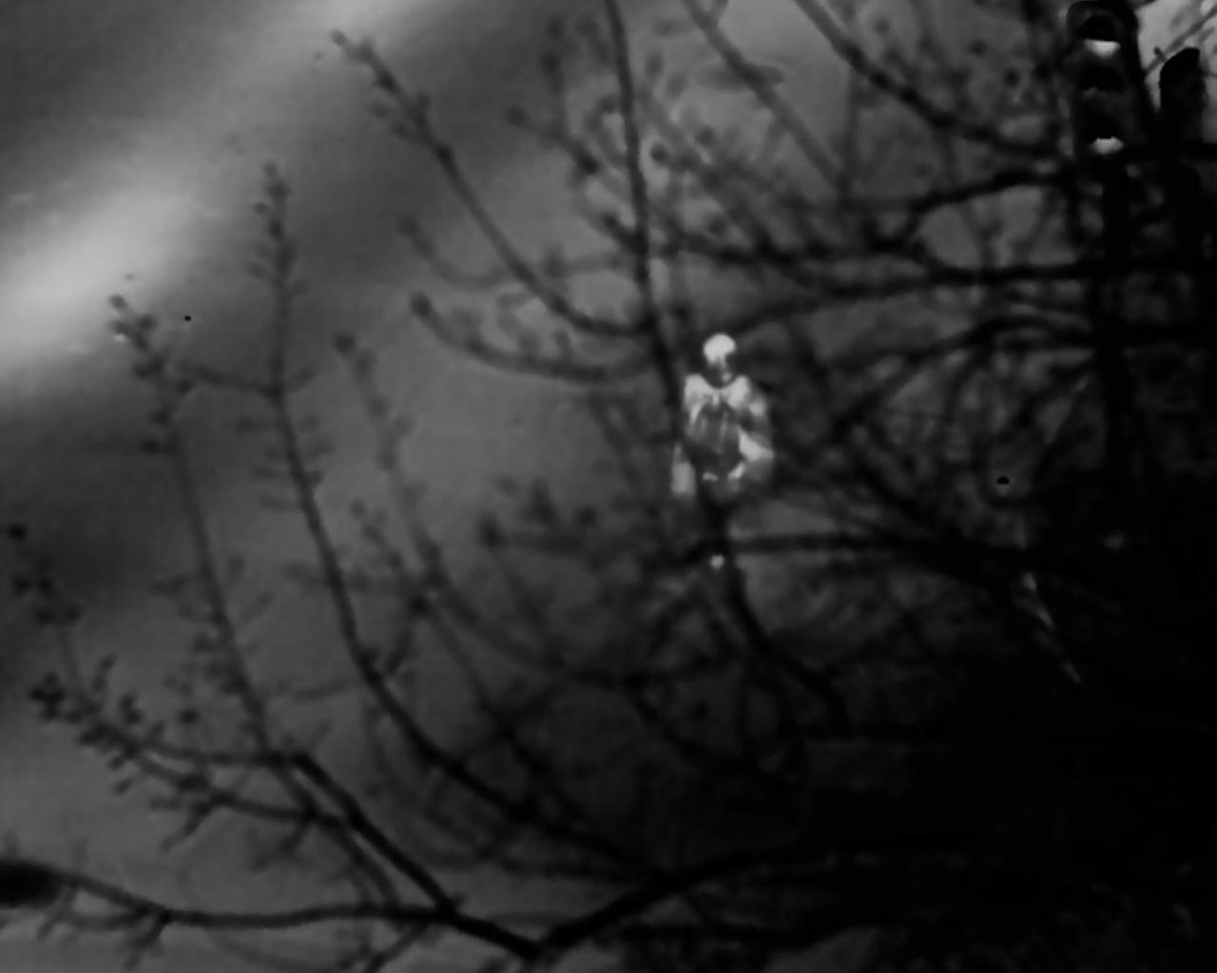person: (673, 326, 768, 506)
